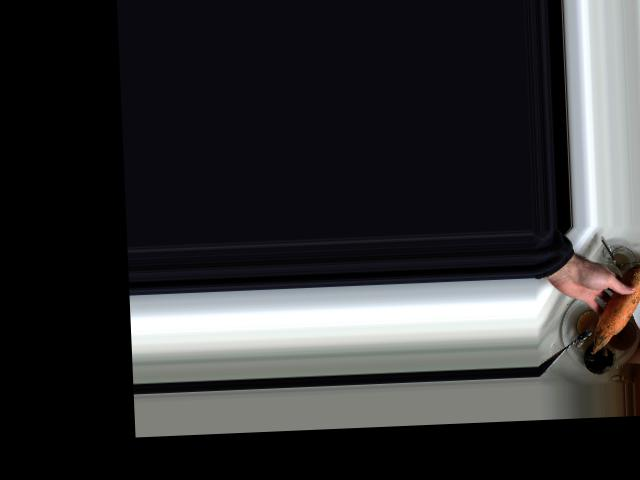sweet_potato: (585, 263, 640, 352)
